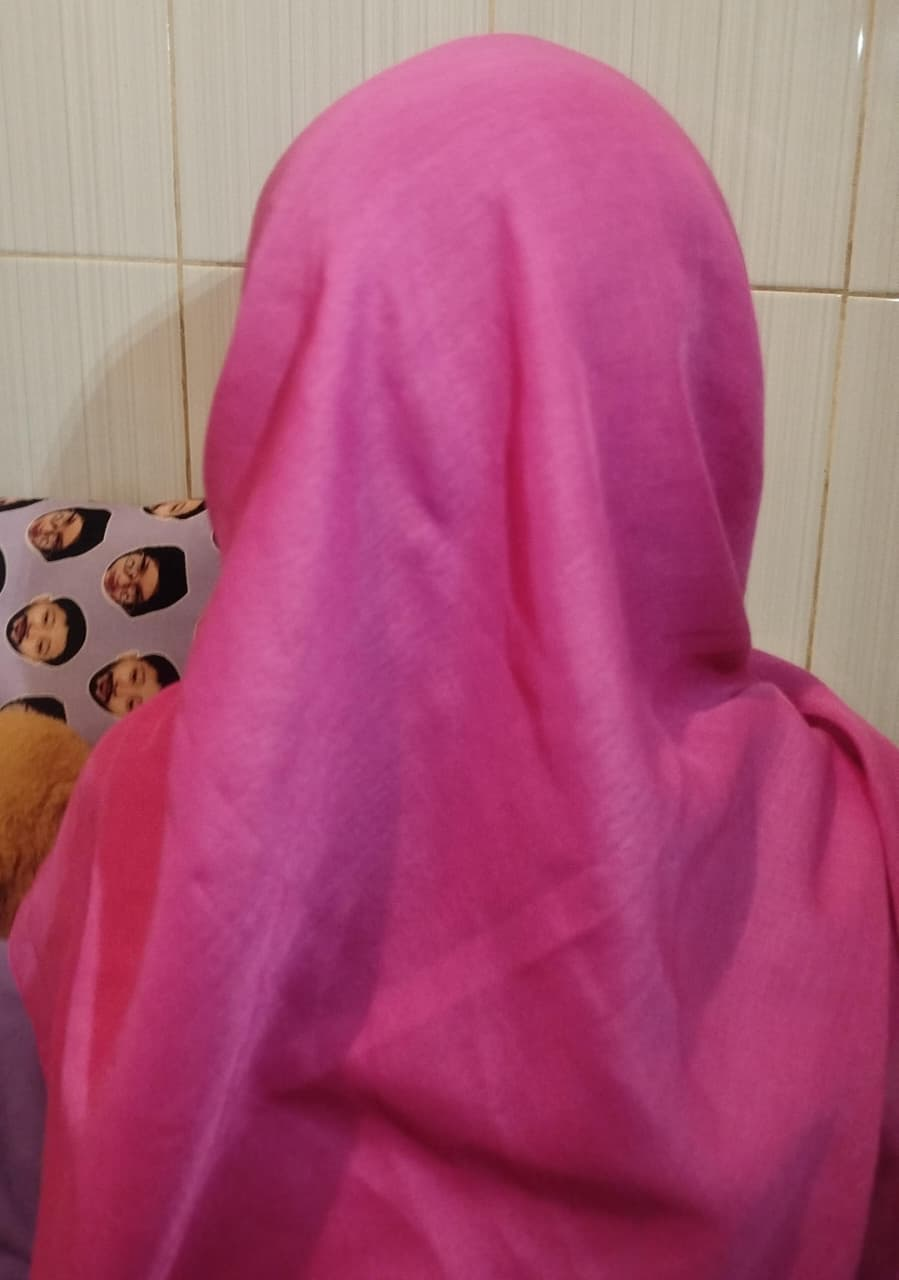kerudung_benar: (215, 41, 757, 828)
